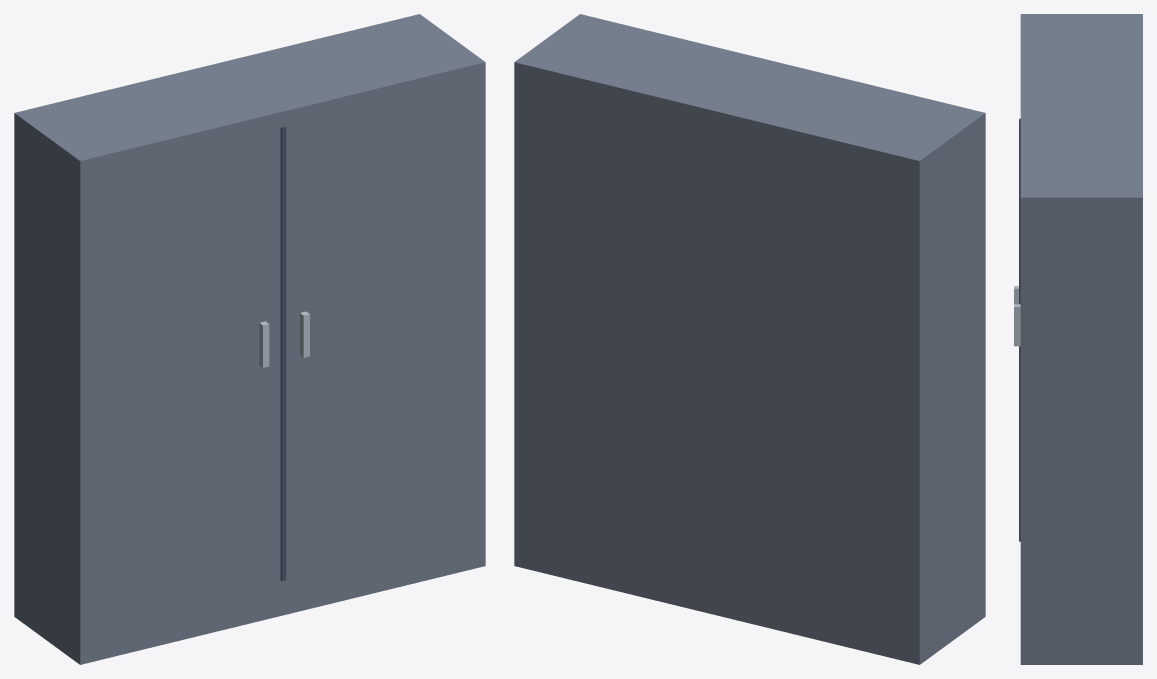
The model's file is 储物柜.glb.
The picture shows the model from 3 angles, left to right: view 1: azimuth 30°, elevation 25°; view 2: azimuth 150°, elevation 25°; view 3: azimuth 270°, elevation 25°; orthographic projection. The views are drawn at different scales.
Visible parts, largest first — view 1: cabinet; view 2: cabinet; view 3: cabinet.
Part boxes in pixels (left/top/right/bottom): cabinet: left=14, top=14, right=485, bottom=664; cabinet: left=514, top=14, right=985, bottom=664; cabinet: left=1014, top=14, right=1142, bottom=664.
Bounding box in the file's own units: 1.6 × 1.9 × 0.4742.
